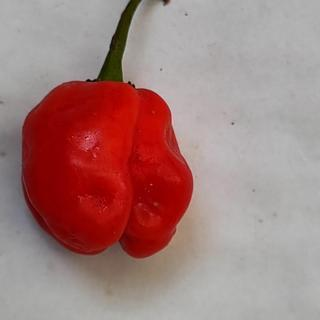Grade-B: (14, 71, 199, 260)
